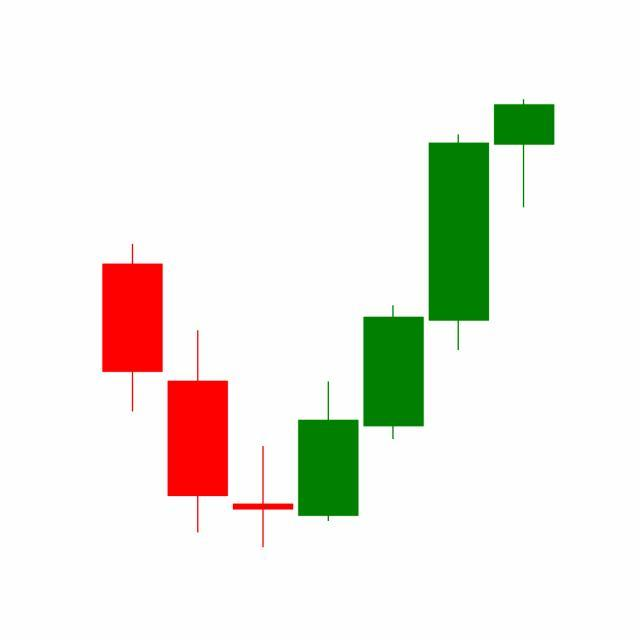Advance Block: (360, 99, 556, 444)
